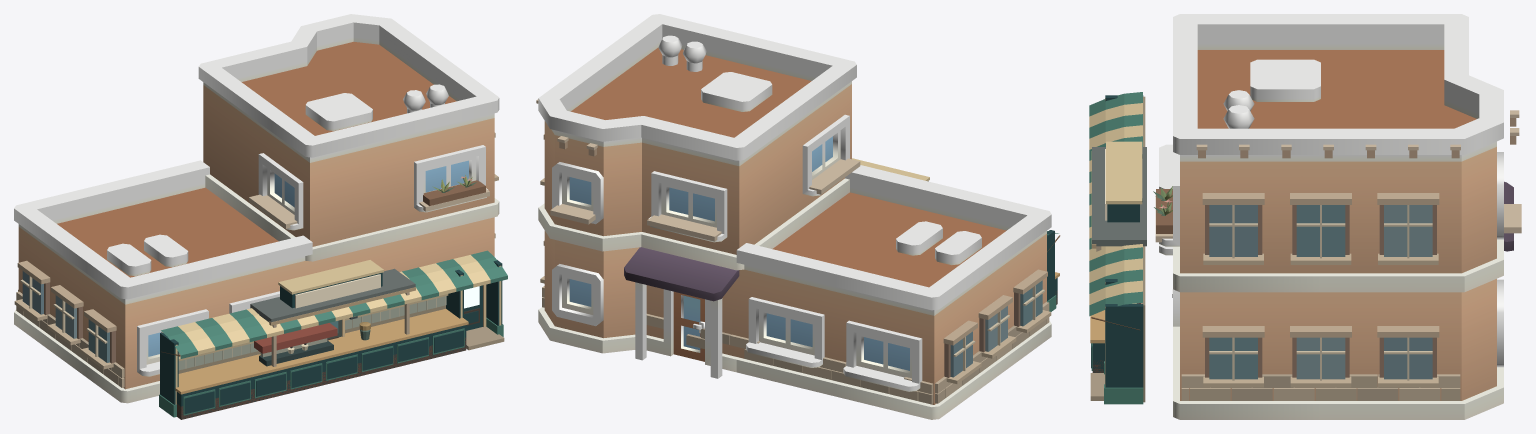
Rendered from shop-e-peach.glb.
3 renders of one model, left to right at view 1: azimuth 30°, elevation 25°; view 2: azimuth 150°, elevation 25°; view 3: azimuth 270°, elevation 25°, orthographic. The views are drawn at different scales.
Parts seen in each view (by area): view 1: building-e, CAFE_Joinery, Masonry_and_stairwell_windows, Residential_Portico, Upper_floor_balconies_and_carved_cornice; view 2: building-e, Masonry_and_stairwell_windows, Upper_floor_balconies_and_carved_cornice, CAFE_Joinery; view 3: building-e, Masonry_and_stairwell_windows, CAFE_Joinery, Residential_Portico, Upper_floor_balconies_and_carved_cornice.
Boxes of the visible parts, x1,y1,x2,y2 form: building-e: (14,14,499,403); CAFE_Joinery: (159,250,507,419); Masonry_and_stairwell_windows: (14,132,498,387); Residential_Portico: (250,268,415,366); Upper_floor_balconies_and_carved_cornice: (249,175,489,228); building-e: (538,14,1051,419); Masonry_and_stairwell_windows: (540,134,1051,404); Upper_floor_balconies_and_carved_cornice: (536,99,860,241); CAFE_Joinery: (852,158,1060,311); building-e: (1159,14,1513,419); Masonry_and_stairwell_windows: (1181,193,1460,400); CAFE_Joinery: (1089,92,1145,404); Residential_Portico: (1091,147,1146,251); Upper_floor_balconies_and_carved_cornice: (1153,110,1521,242).
Size of the model in its own units: 1.71 by 0.8936 by 1.23.
56 materials, 1 textured.
